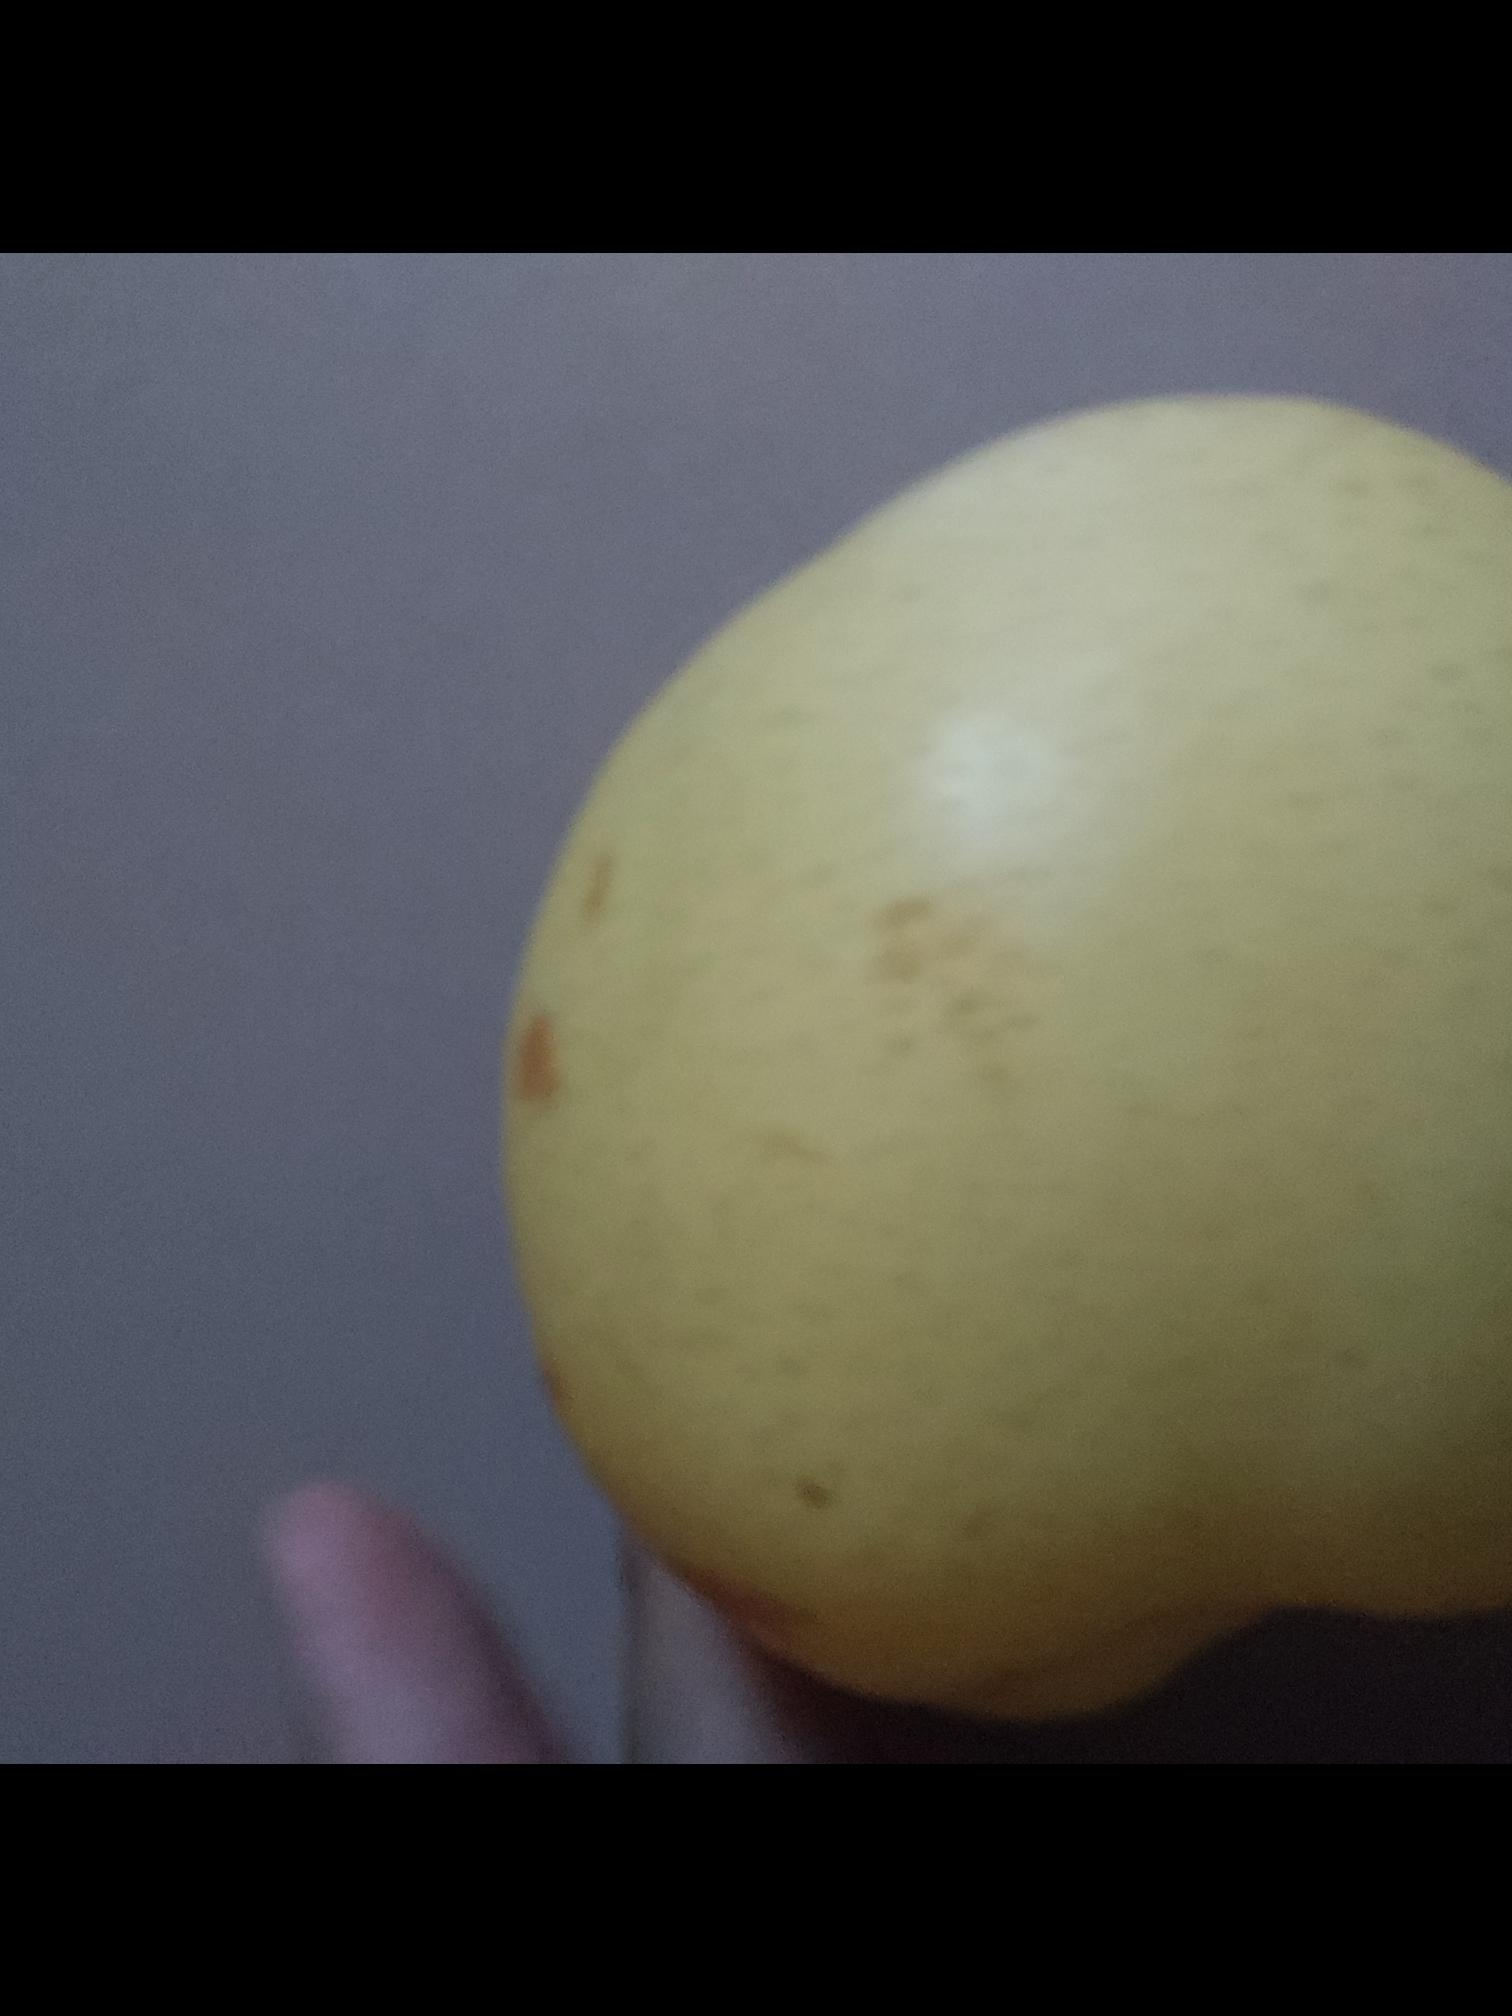Good Pear: (549, 306, 1512, 1497)
